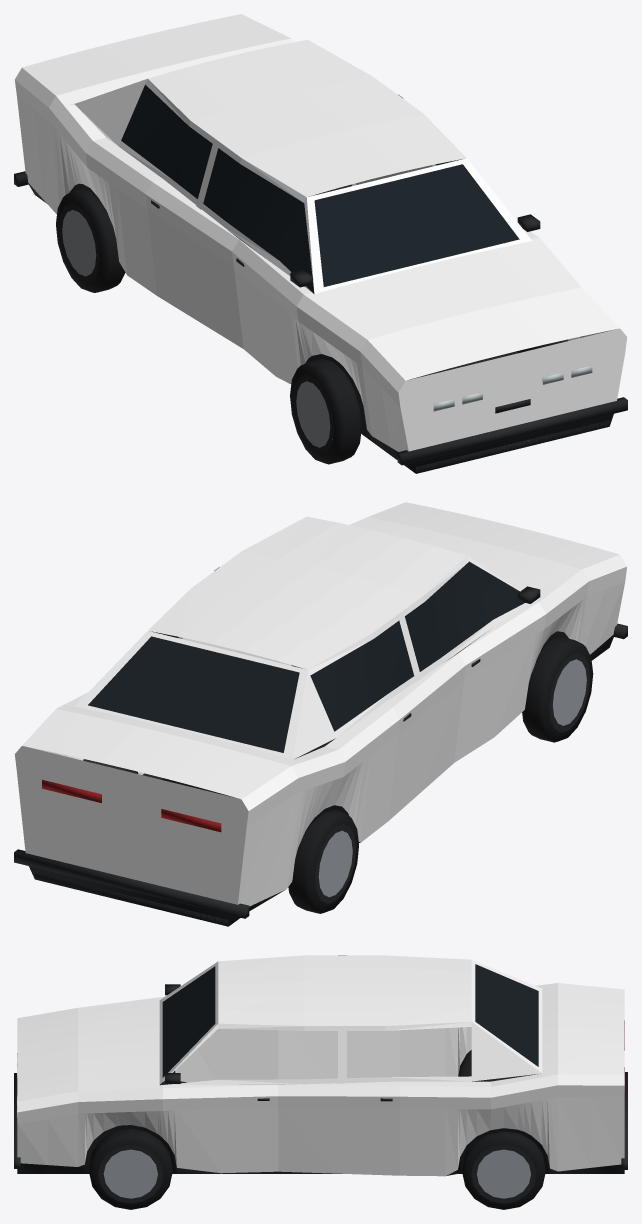
File: bancroft_patamar.glb
3 views of the same model, one above another, from view 1: azimuth 30°, elevation 25°; view 2: azimuth 150°, elevation 25°; view 3: azimuth 270°, elevation 25° (orthographic). The views are drawn at different scales.
Visible parts, largest first — view 1: Body_Paint, Body_Details, Mount_FrontLeft_Wheel_Details, Mount_RearLeft_Wheel_Details; view 2: Body_Paint, Body_Details, Mount_FrontLeft_Wheel_Details, Mount_RearLeft_Wheel_Details; view 3: Body_Paint, Body_Details, Mount_FrontRight_Wheel_Details, Mount_RearRight_Wheel_Details.
Boxes of the visible parts, box(x1,y1,x2,y2) form: Body_Paint: box(14, 14, 626, 451); Body_Details: box(14, 84, 627, 473); Mount_FrontLeft_Wheel_Details: box(290, 358, 361, 464); Mount_RearLeft_Wheel_Details: box(56, 188, 125, 292); Body_Paint: box(14, 502, 627, 906); Body_Details: box(14, 561, 627, 926); Mount_FrontLeft_Wheel_Details: box(522, 636, 593, 742); Mount_RearLeft_Wheel_Details: box(288, 810, 358, 913); Body_Paint: box(17, 955, 624, 1176); Body_Details: box(14, 964, 627, 1175); Mount_FrontRight_Wheel_Details: box(89, 1128, 172, 1209); Mount_RearRight_Wheel_Details: box(462, 1131, 545, 1209).
Bounding box in the file's own units: 2 × 1.6 × 5.14.
2 materials, 1 textured.
